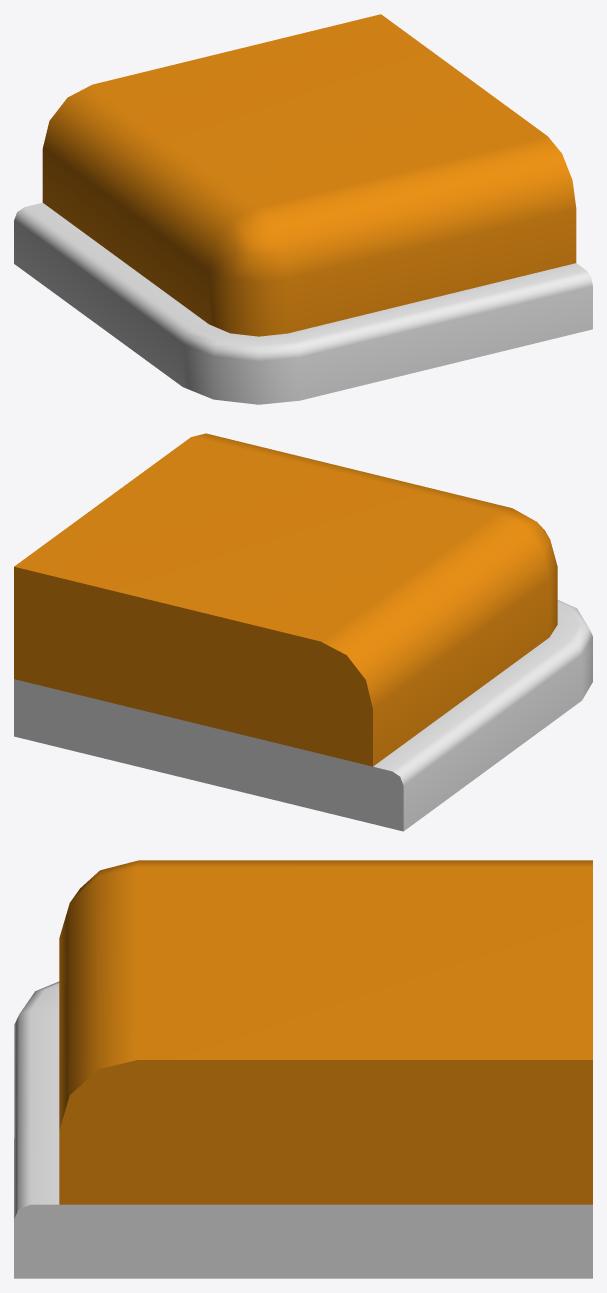
File: Wall_Corner_End.fbx
The picture shows the model from 3 angles, top to bottom: view 1: azimuth 30°, elevation 25°; view 2: azimuth 150°, elevation 25°; view 3: azimuth 270°, elevation 25°; orthographic projection. The views are drawn at different scales.
Parts seen in each view (by area): view 1: Wall_Corner_End; view 2: Wall_Corner_End; view 3: Wall_Corner_End.
Boxes of the visible parts, bbox=[...] form: Wall_Corner_End: bbox=[14, 14, 592, 404]; Wall_Corner_End: bbox=[14, 433, 592, 831]; Wall_Corner_End: bbox=[14, 860, 592, 1278].
Size of the model in its own units: 70.82 by 29.51 by 70.82.
